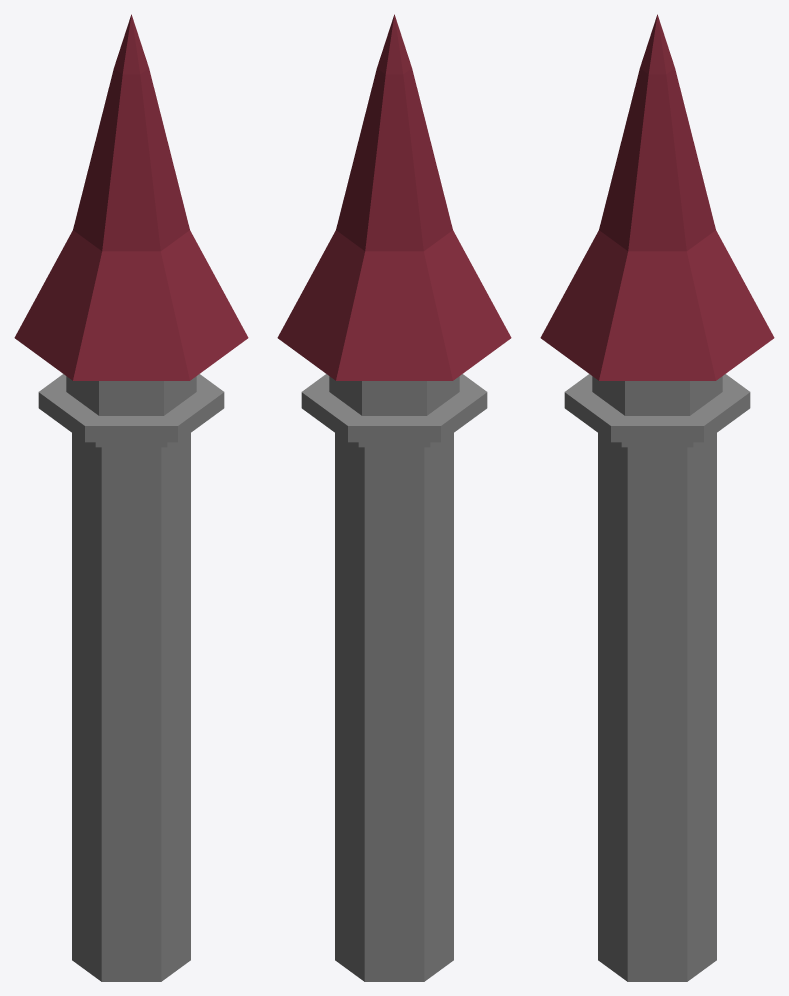
The model's file is castle_house_005.fbx.
The picture shows the model from 3 angles, left to right: view 1: azimuth 30°, elevation 25°; view 2: azimuth 150°, elevation 25°; view 3: azimuth 270°, elevation 25°; orthographic projection.
Visible parts, largest first — view 1: Disney tower; view 2: Disney tower; view 3: Disney tower.
Boxes of the visible parts, x1,y1,x2,y2 form: Disney tower: (14,14,248,981); Disney tower: (277,14,511,981); Disney tower: (540,14,774,981).
Bounding box in the file's own units: 340 × 1752 × 393.
